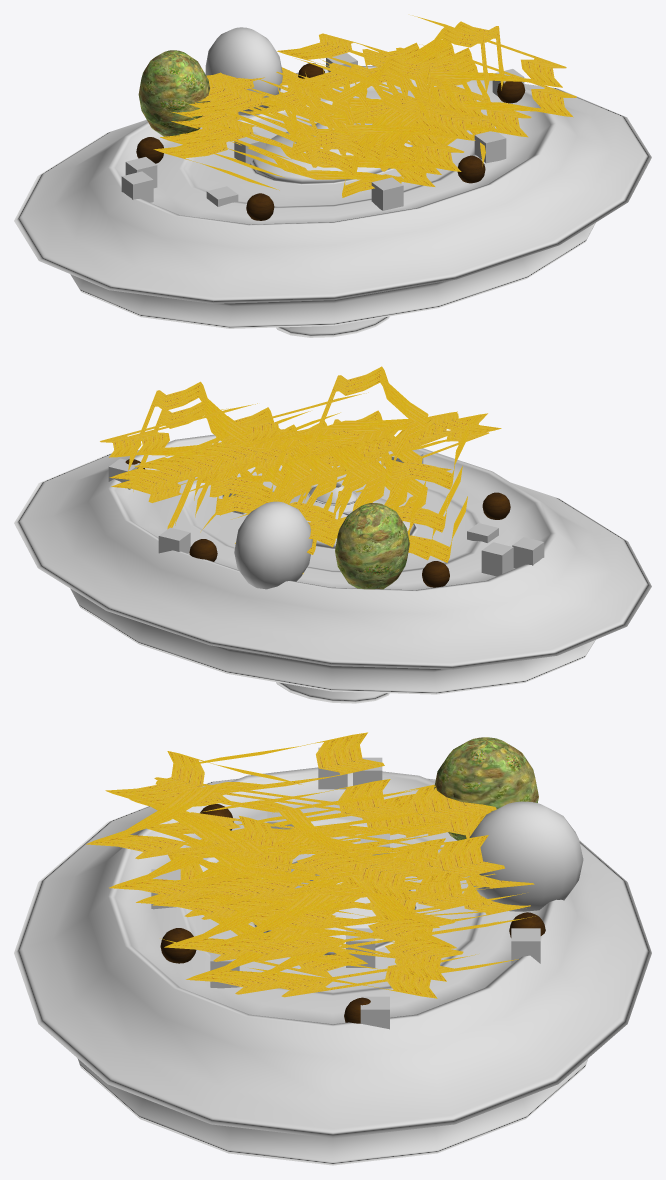
Rendered from nachos.dae.
3 renders of one model, top to bottom at view 1: azimuth 30°, elevation 25°; view 2: azimuth 150°, elevation 25°; view 3: azimuth 270°, elevation 25°, orthographic. The views are drawn at different scales.
Parts seen in each view (by area): view 1: ルートパート, 球 (×6); view 2: ルートパート, 球 (×5); view 3: ルートパート, 球 (×3).
Part boxes in pixels (x1,y1,x2,y2): ルートパート: (14,15,651,337); 球 (×6): (136,27,525,220); ルートパート: (14,366,651,703); 球 (×5): (189,492,510,589); ルートパート: (14,732,651,1165); 球 (×3): (160,737,583,963).
Size of the model in its own units: 598 by 236 by 434.
